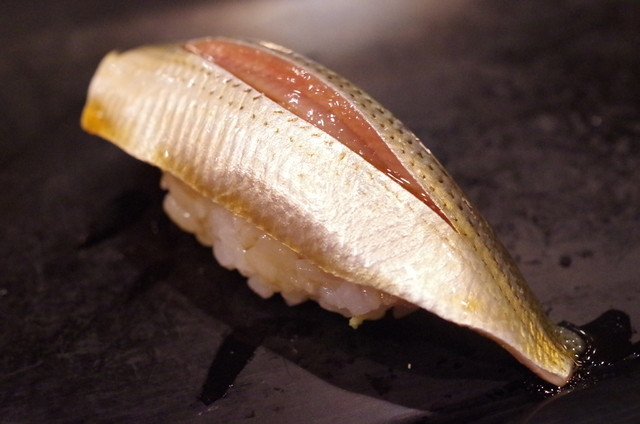spotted-shad: (78, 34, 576, 395)
